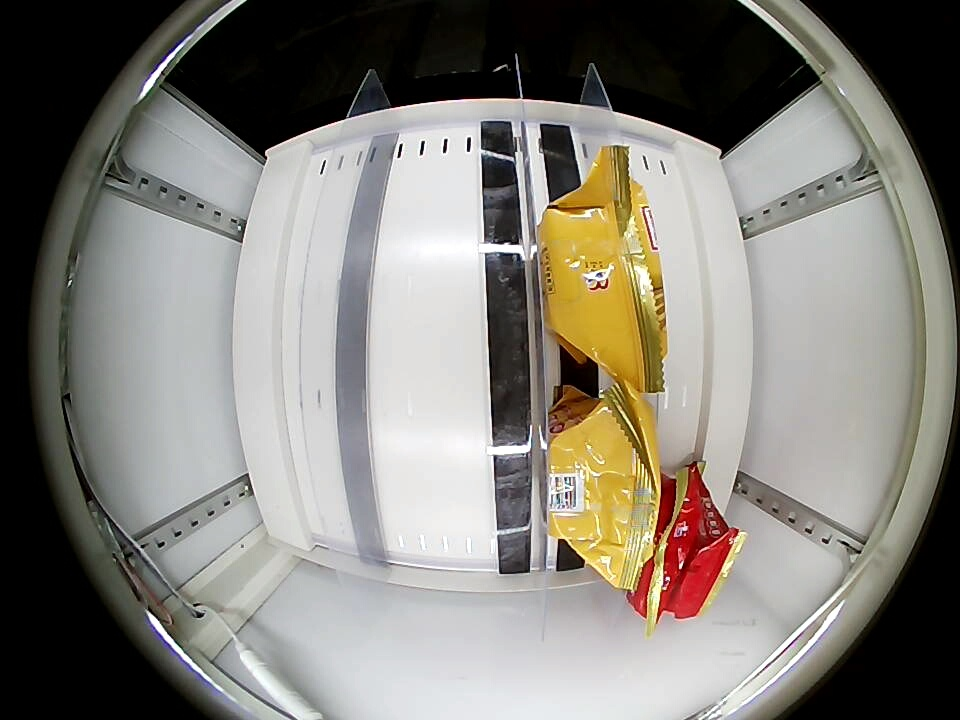kaomo_gali: (538, 187, 666, 385), (544, 388, 662, 568)
kaomo_shaokao: (626, 475, 699, 621), (676, 514, 745, 619)
